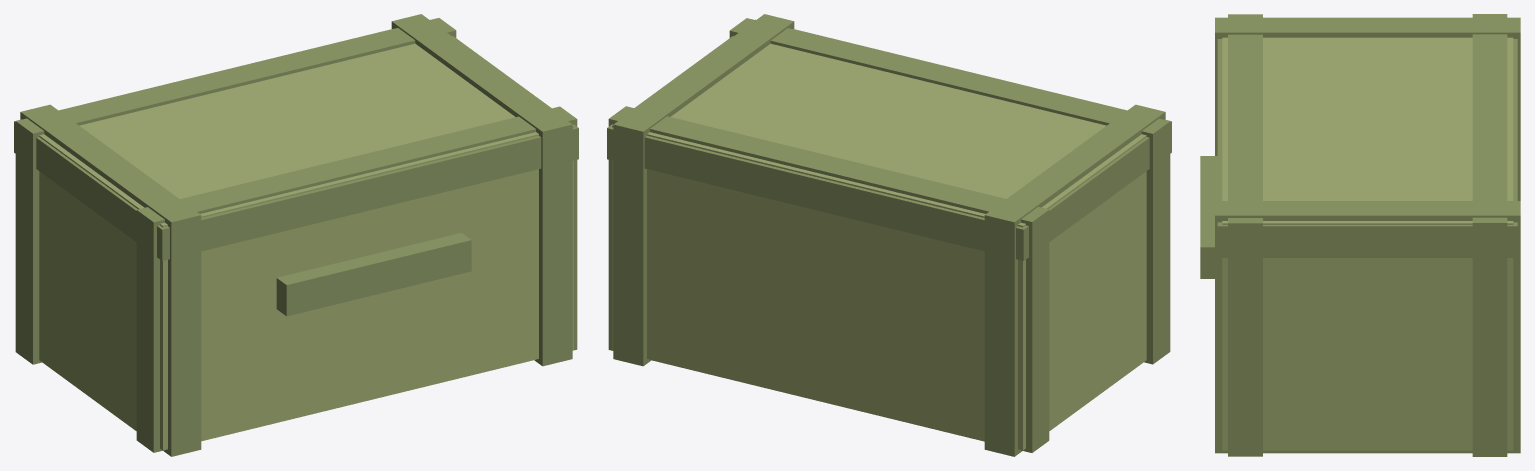
Rendered from 04_crate_large.glb.
3 renders of one model, left to right at view 1: azimuth 30°, elevation 25°; view 2: azimuth 150°, elevation 25°; view 3: azimuth 270°, elevation 25°, orthographic.
Parts seen in each view (by area): view 1: part_1, part_6, part_4, part_5, part_2, part_3, part_7; view 2: part_1, part_6, part_5, part_2, part_3, part_4; view 3: part_1, part_5, part_4, part_3, part_6, part_2, part_7.
Boxes of the visible parts, <box> form: part_1: <box>39,43,573,450</box>; part_6: <box>14,19,578,260</box>; part_4: <box>136,106,577,452</box>; part_5: <box>15,18,456,364</box>; part_2: <box>20,104,201,456</box>; part_3: <box>391,14,572,366</box>; part_7: <box>276,233,471,316</box>; part_1: <box>612,43,1146,450</box>; part_6: <box>607,19,1171,260</box>; part_5: <box>608,106,1049,452</box>; part_2: <box>984,104,1165,456</box>; part_3: <box>613,14,794,366</box>; part_4: <box>729,18,1170,364</box>; part_1: <box>1222,37,1513,450</box>; part_5: <box>1472,14,1507,456</box>; part_4: <box>1228,14,1262,456</box>; part_3: <box>1215,201,1520,453</box>; part_6: <box>1217,39,1517,257</box>; part_2: <box>1215,17,1520,200</box>; part_7: <box>1200,156,1217,278</box>.
Bounding box in the file's own units: 1.7 × 0.9 × 1.1.
